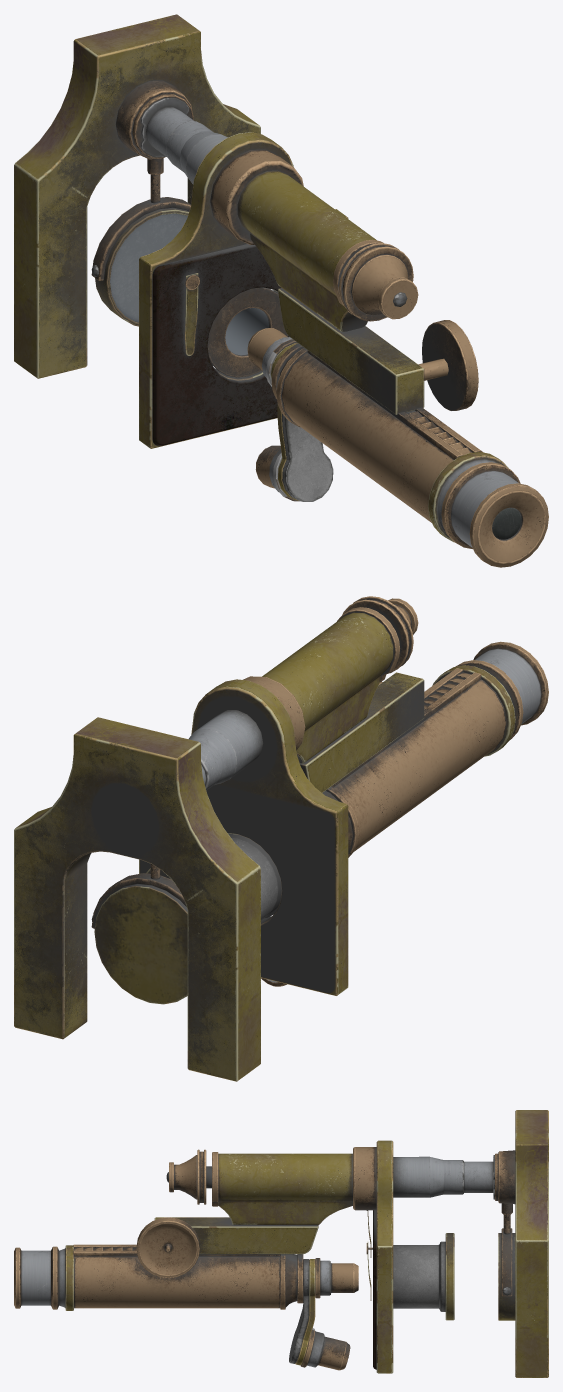
File: SM_Microscope.001.fbx
The picture shows the model from 3 angles, top to bottom: view 1: azimuth 30°, elevation 25°; view 2: azimuth 150°, elevation 25°; view 3: azimuth 270°, elevation 25°; orthographic projection. The views are drawn at different scales.
Visible parts, largest first — view 1: SM_Microscope.001, SM_Microscope_Cilinder, SM_Microscope_Mirror, SM_Microscope_Rotate, SM_Microscope_Zoom; view 2: SM_Microscope.001, SM_Microscope_Cilinder, SM_Microscope_Mirror; view 3: SM_Microscope.001, SM_Microscope_Cilinder, SM_Microscope_Zoom, SM_Microscope_Rotate, SM_Microscope_Mirror.
Part boxes in pixels (x1=…): SM_Microscope.001: x1=14, y1=14, x2=448, y2=448; SM_Microscope_Cilinder: x1=271, y1=343, x2=548, y2=567; SM_Microscope_Mirror: x1=95, y1=208, x2=188, y2=326; SM_Microscope_Rotate: x1=422, y1=320, x2=478, y2=410; SM_Microscope_Zoom: x1=247, y1=328, x2=299, y2=501; SM_Microscope.001: x1=14, y1=596, x2=424, y2=1081; SM_Microscope_Cilinder: x1=322, y1=641, x2=548, y2=857; SM_Microscope_Mirror: x1=94, y1=884, x2=187, y2=1004; SM_Microscope.001: x1=154, y1=1110, x2=548, y2=1377; SM_Microscope_Cilinder: x1=14, y1=1244, x2=309, y2=1363; SM_Microscope_Zoom: x1=295, y1=1258, x2=358, y2=1370; SM_Microscope_Rotate: x1=136, y1=1217, x2=199, y2=1277; SM_Microscope_Mirror: x1=498, y1=1233, x2=515, y2=1320.
Bounding box in the file's own units: 0.1601 × 0.2386 × 0.4783.
